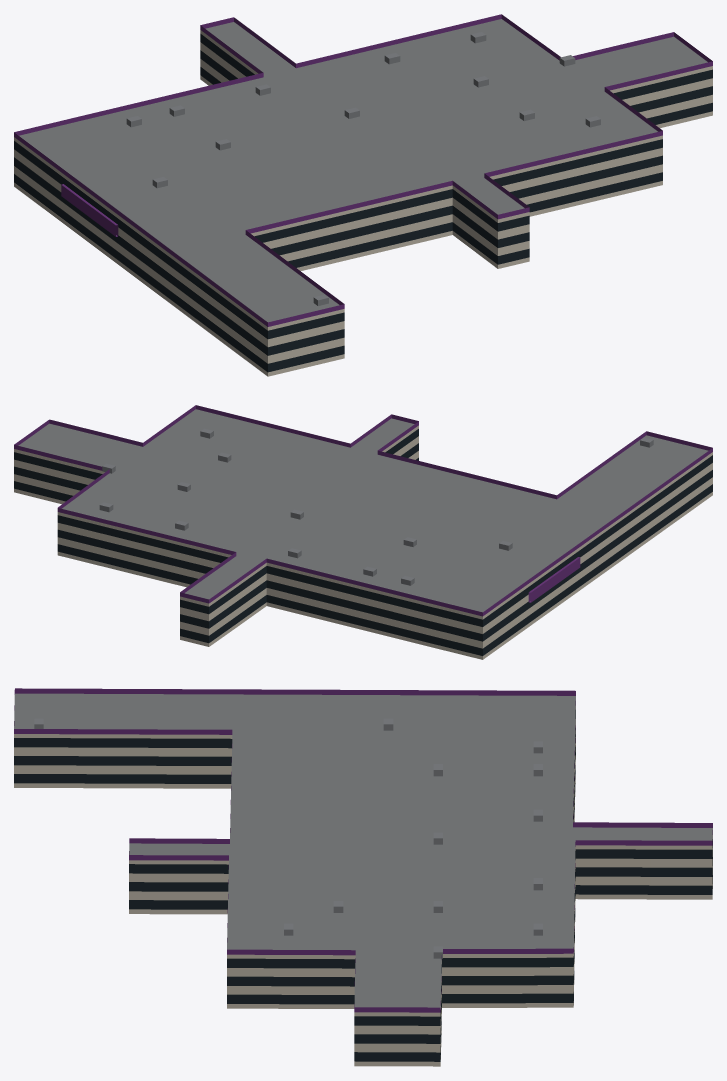
File: plaza-suka-ramai-lod0.glb
3 views of the same model, one above another, from view 1: azimuth 30°, elevation 25°; view 2: azimuth 150°, elevation 25°; view 3: azimuth 270°, elevation 25° (orthographic). The views are drawn at different scales.
Visible parts, largest first — view 1: plaza-suka-ramai_LOD0; view 2: plaza-suka-ramai_LOD0; view 3: plaza-suka-ramai_LOD0.
Part boxes in pixels (bbox=[...]): plaza-suka-ramai_LOD0: bbox=[14, 14, 712, 376]; plaza-suka-ramai_LOD0: bbox=[14, 405, 712, 659]; plaza-suka-ramai_LOD0: bbox=[14, 688, 712, 1066].
Size of the model in its own units: 175 by 15.4 by 162.
